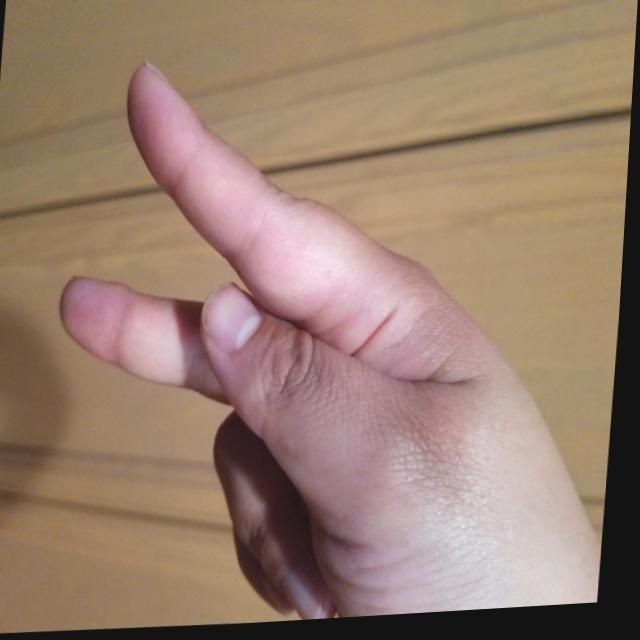P: (33, 25, 603, 636)
